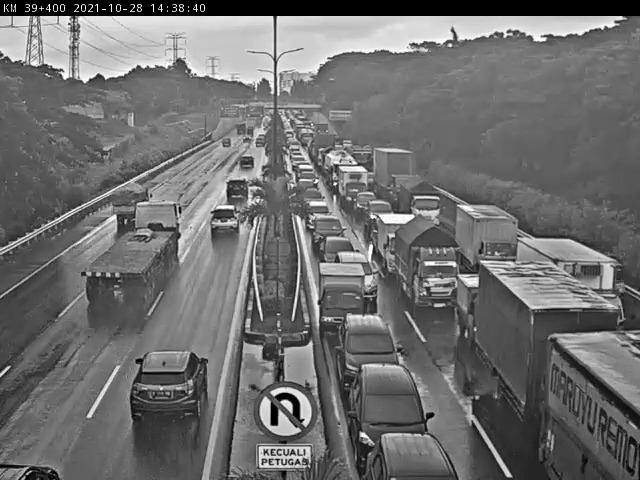big truck: (473, 258, 583, 421), (63, 206, 170, 334), (549, 331, 640, 479)
car: (106, 340, 236, 432), (359, 428, 462, 478), (350, 369, 425, 430), (342, 311, 412, 368), (337, 254, 381, 299), (340, 167, 372, 207), (322, 234, 358, 265), (202, 220, 240, 248), (311, 215, 345, 243), (221, 184, 251, 210), (367, 201, 391, 231), (355, 194, 384, 216), (309, 200, 334, 222), (235, 157, 257, 177), (302, 189, 323, 207)
small truck: (515, 234, 622, 314), (394, 223, 460, 308), (460, 202, 524, 271), (456, 273, 504, 338), (320, 263, 367, 324), (379, 215, 420, 267), (402, 182, 447, 227), (101, 188, 148, 218), (401, 186, 437, 223)
